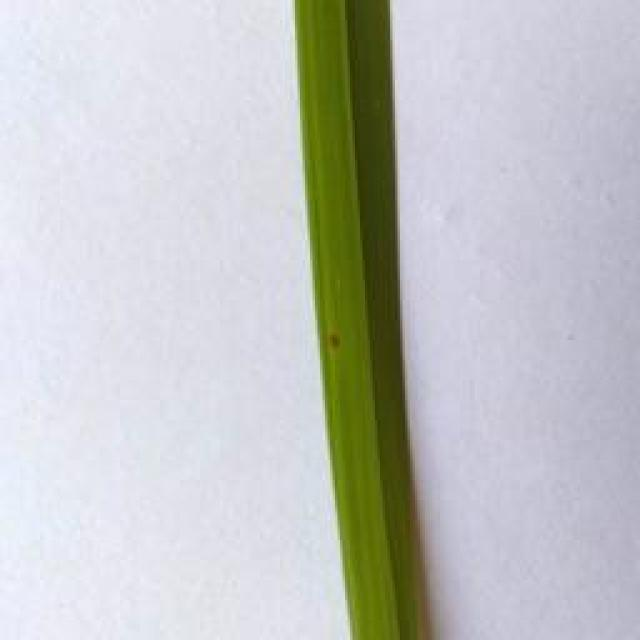Brown_Spot: (320, 328, 350, 359)
